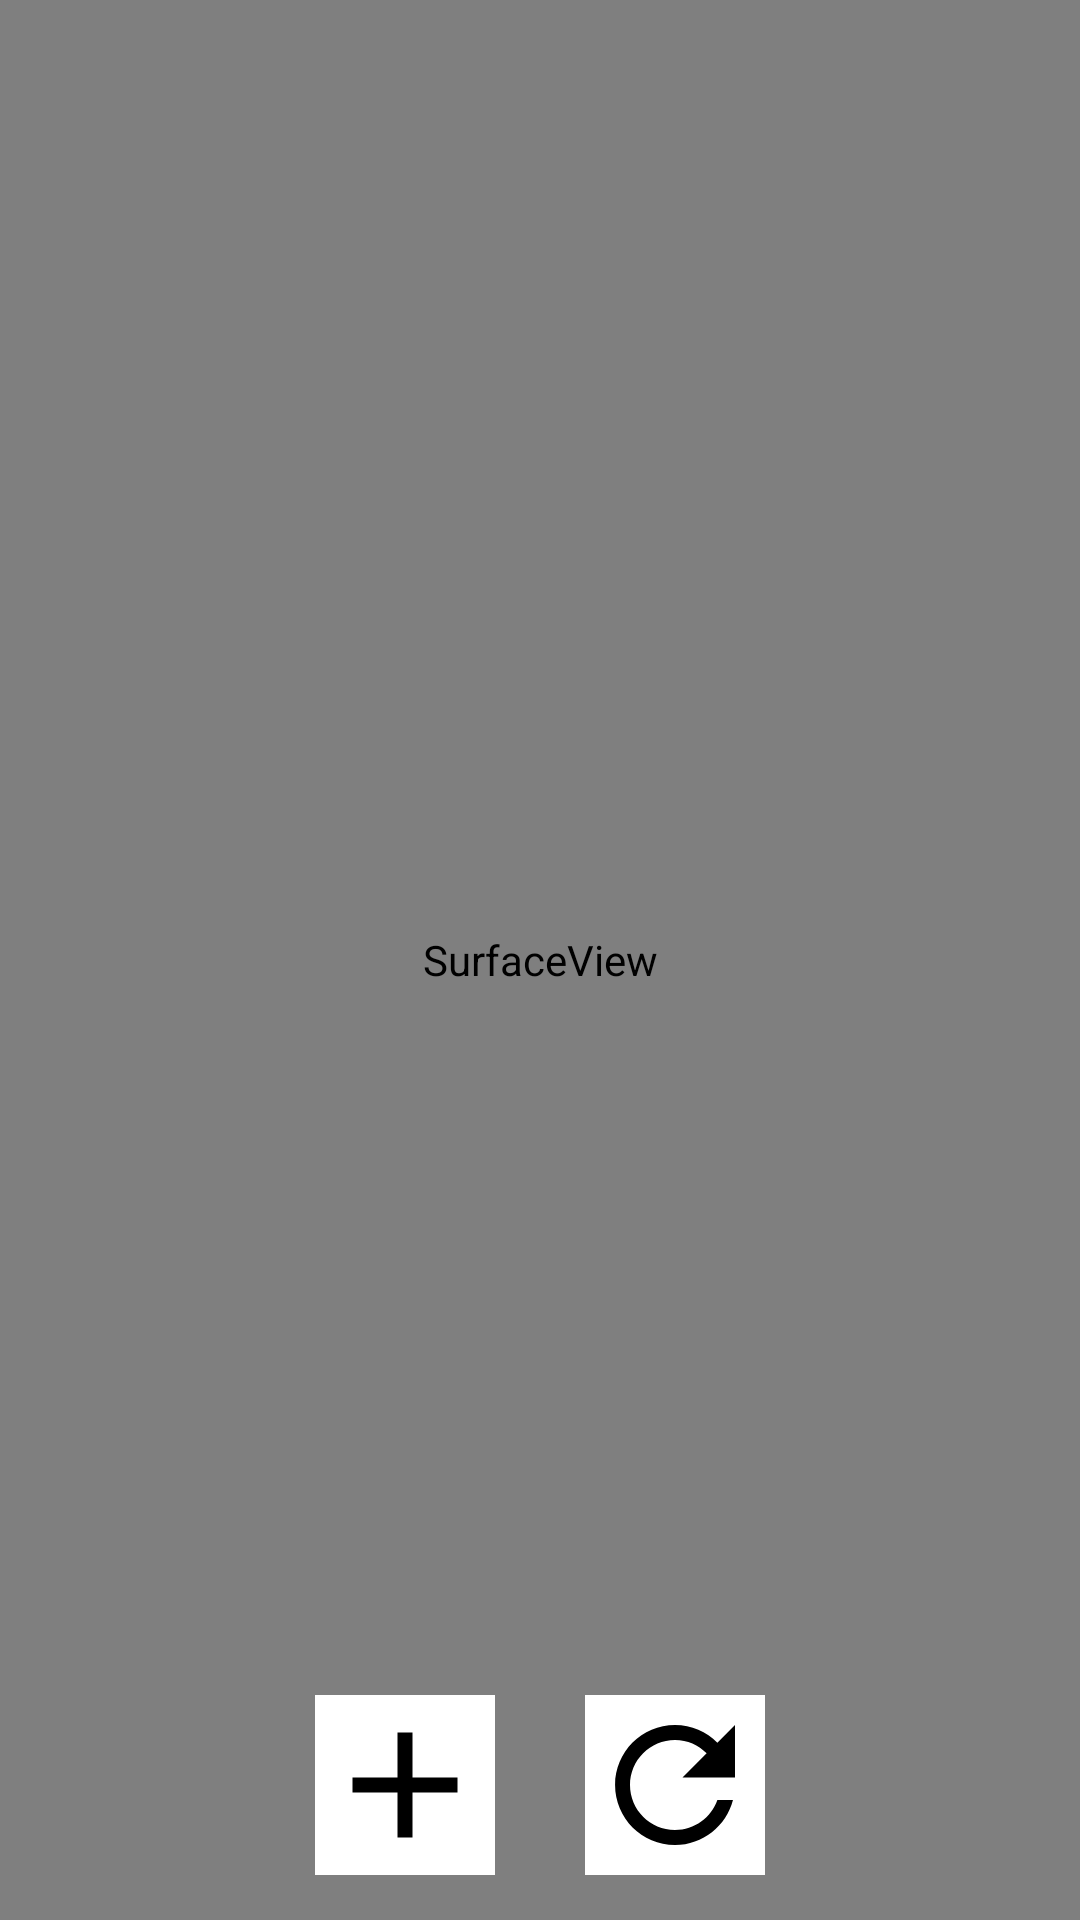

Icon bounding boxes for this 1080x1920 phone screenshot, format (x1, y1, x2, y2):
add: (315, 1695, 495, 1875)
again: (585, 1695, 765, 1875)
